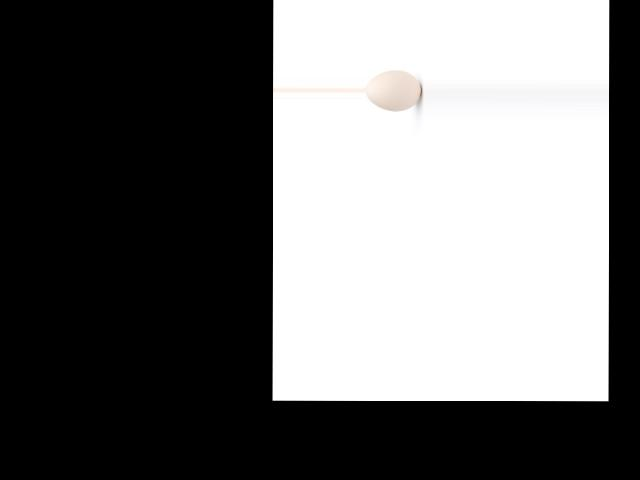egg: (366, 69, 421, 111)
